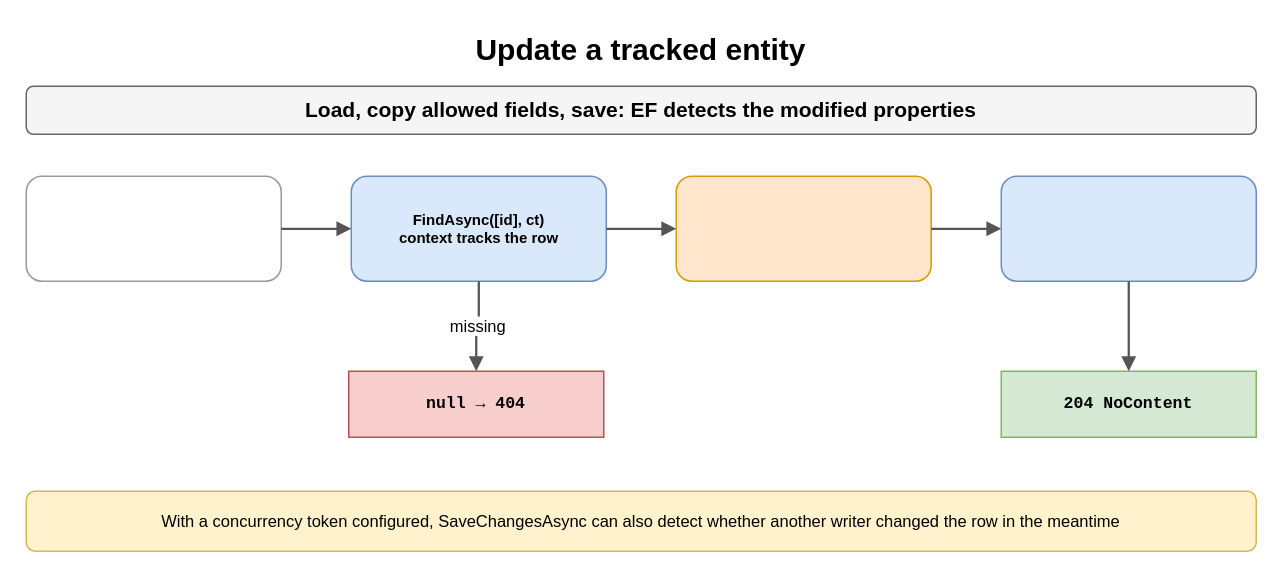
Some shapes in this 1283 by 578 pixel diagram are drawn without their labels. The shapes that lost their labels are listed below. From the top down, each one's box as (x1, y1, x2, y2) in pixels, then its label:
(25, 175, 281, 281): PUT /rooms/{id:int} RoomInput
(675, 175, 931, 281): room.Name = input.Name
(1000, 175, 1256, 281): SaveChangesAsync writes changed columns
